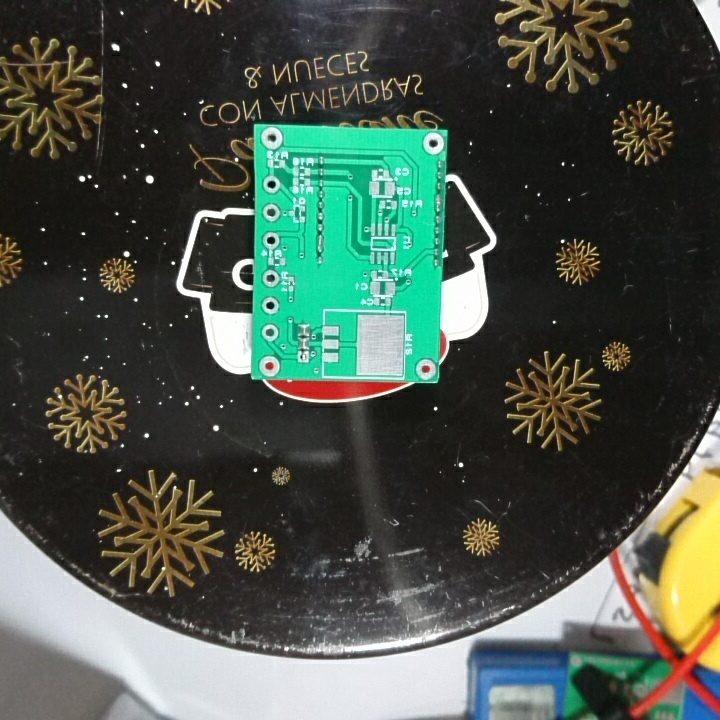F: (258, 123, 285, 151), (413, 354, 439, 381), (421, 129, 445, 157), (258, 292, 283, 318), (259, 320, 282, 347), (261, 173, 284, 199), (258, 353, 283, 376), (260, 267, 281, 290), (262, 200, 282, 224), (261, 229, 281, 252), (296, 349, 313, 367)
P: (312, 230, 327, 258), (433, 190, 444, 214)
